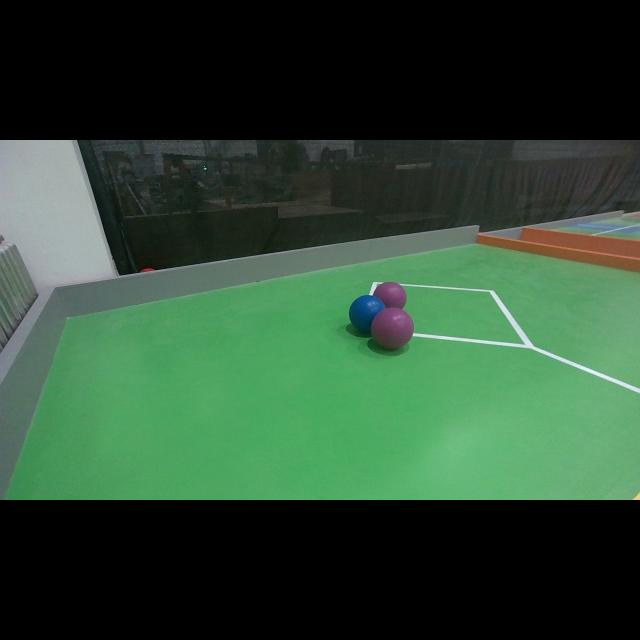B: (349, 295, 386, 333)
P: (371, 308, 414, 350), (373, 280, 407, 314)
